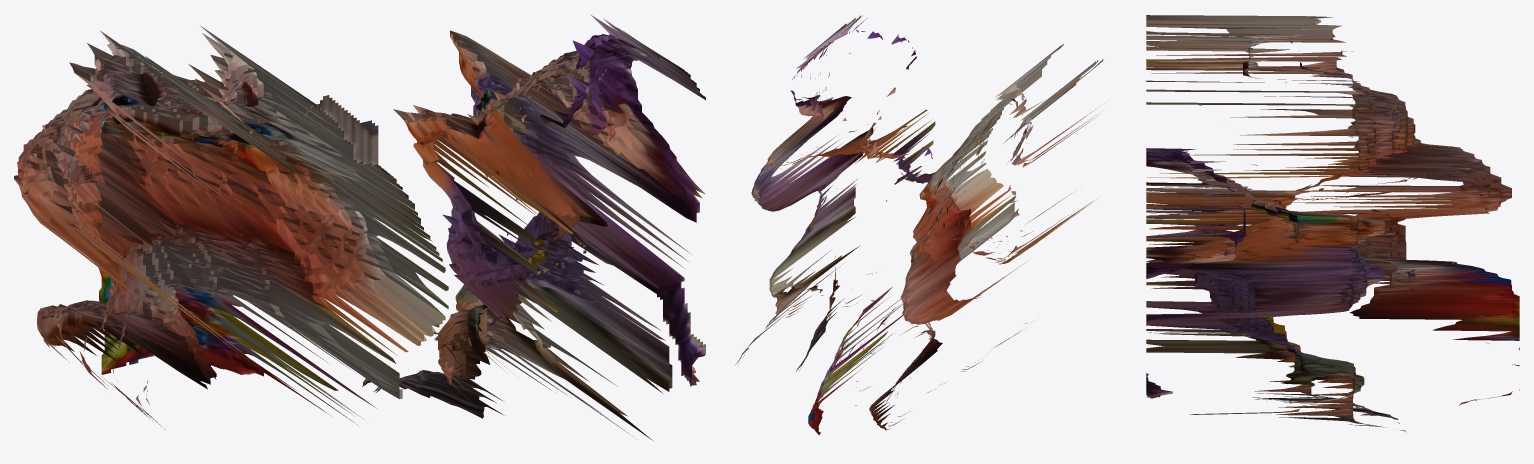
Rendered from frame_00404.glb.
3 renders of one model, left to right at view 1: azimuth 30°, elevation 25°; view 2: azimuth 150°, elevation 25°; view 3: azimuth 270°, elevation 25°, orthographic. The views are drawn at different scales.
Visible parts, largest first — view 1: geometry_0; view 2: geometry_0; view 3: geometry_0.
Part boxes in pixels (x1=…): geometry_0: x1=14, y1=14, x2=705, y2=440; geometry_0: x1=735, y1=15, x2=1103, y2=435; geometry_0: x1=1146, y1=15, x2=1519, y2=432.
Bounding box in the file's own units: 0.1555 × 0.1556 × 0.16.
1 material, 1 textured.
